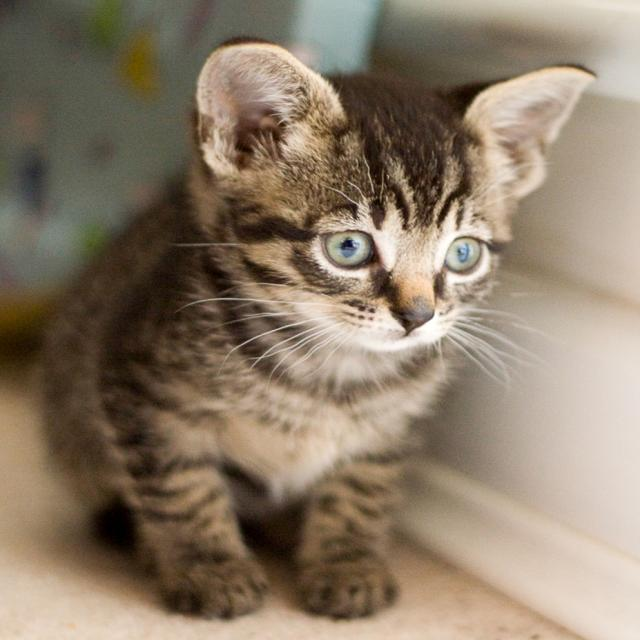Cat: (32, 35, 596, 621)
